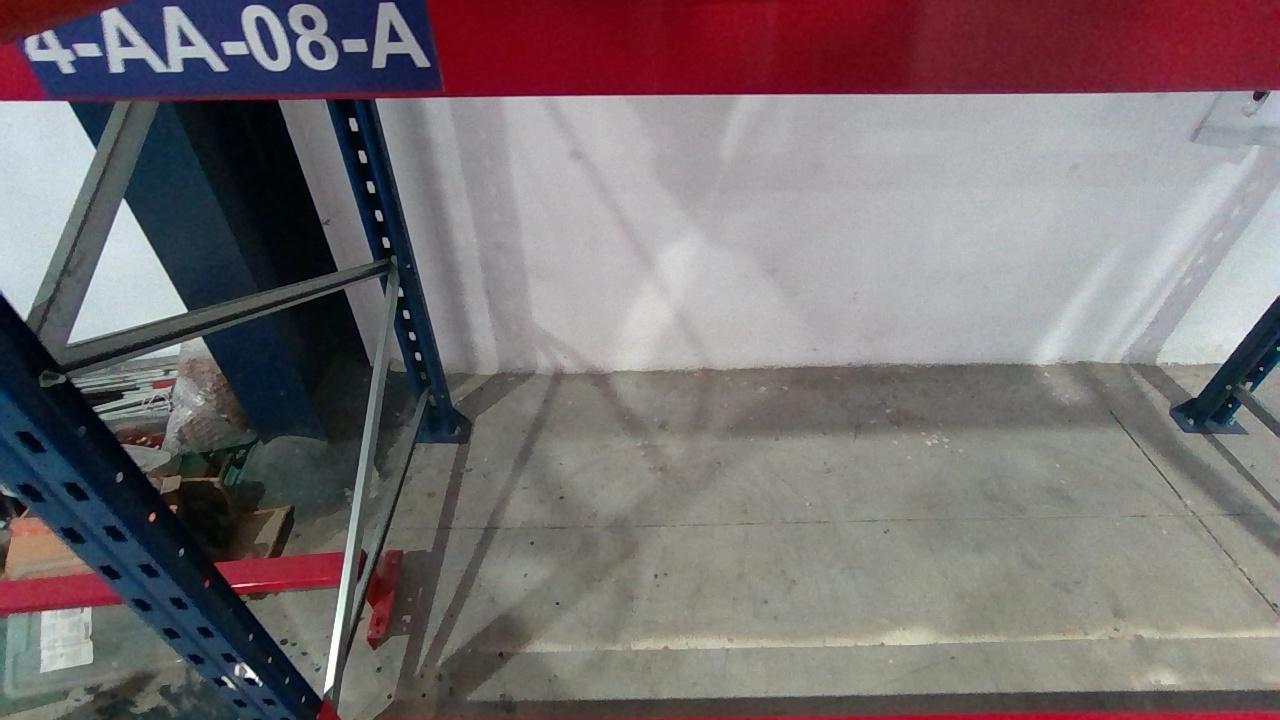h_rack: (0, 2, 1280, 100)
